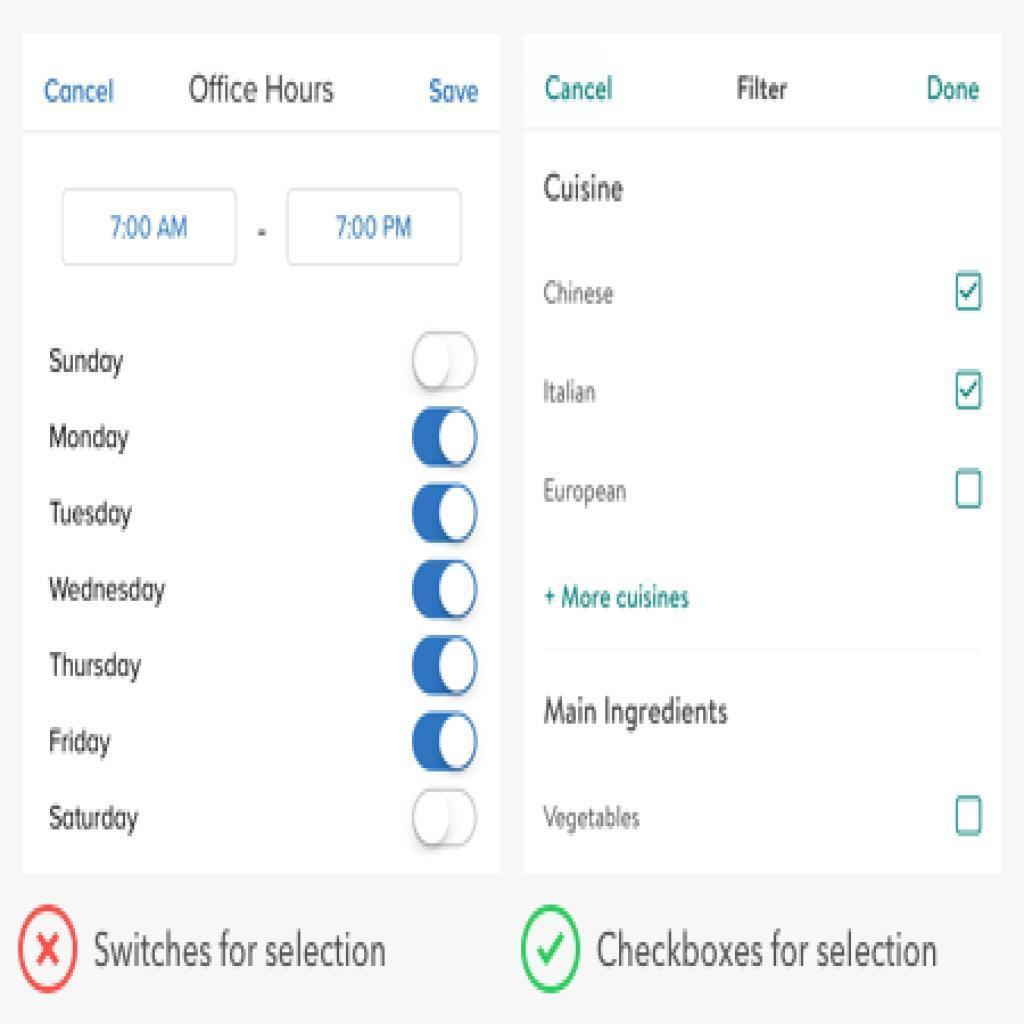button: (61, 187, 238, 266), (287, 187, 464, 266)
checkbox: (954, 368, 987, 415), (954, 793, 986, 840), (953, 468, 986, 513), (954, 270, 985, 315)
label: (42, 71, 120, 112), (537, 71, 619, 108), (427, 74, 483, 112), (924, 74, 982, 109)
radio: (517, 898, 584, 997), (17, 901, 82, 998)
switch: (409, 326, 484, 394), (408, 708, 483, 776), (406, 480, 483, 545), (407, 402, 483, 467), (409, 789, 486, 852), (410, 632, 482, 699), (411, 558, 481, 623)
